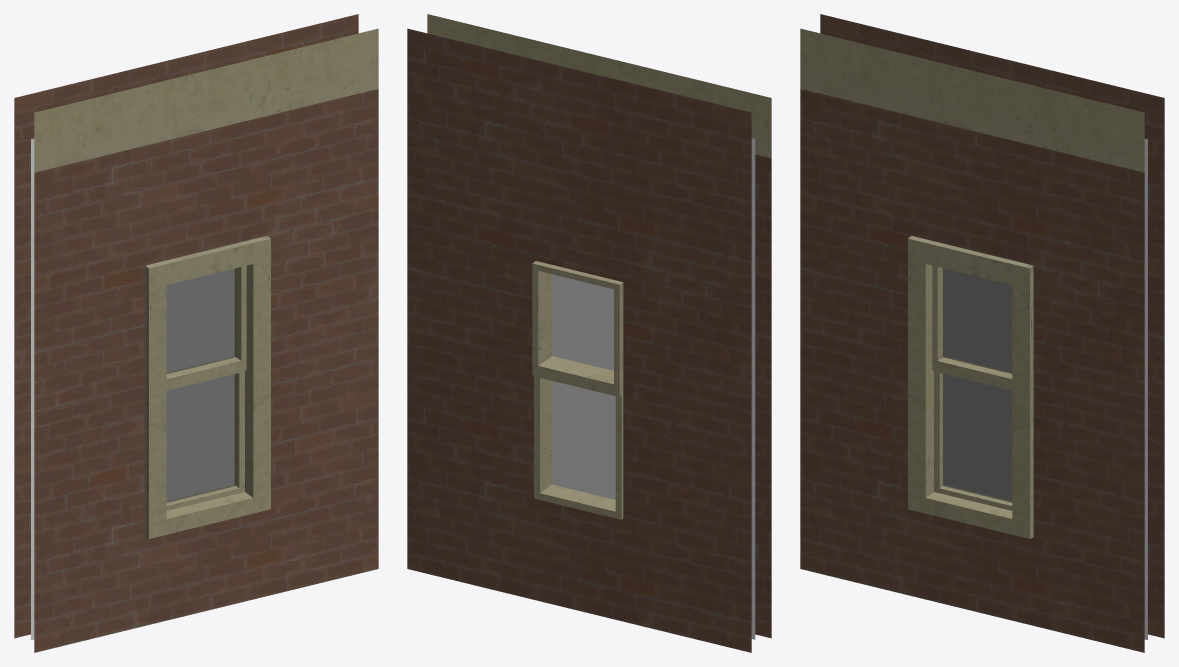
File: Brick_Window_Square_Single.glb
The picture shows the model from 3 angles, left to right: view 1: azimuth 30°, elevation 25°; view 2: azimuth 150°, elevation 25°; view 3: azimuth 330°, elevation 25°; orthographic projection.
Parts seen in each view (by area): view 1: Brick_Window_Square_Single; view 2: Brick_Window_Square_Single; view 3: Brick_Window_Square_Single.
Boxes of the visible parts, left/top/right/bottom form: Brick_Window_Square_Single: left=14, top=14, right=378, bottom=652; Brick_Window_Square_Single: left=407, top=14, right=771, bottom=652; Brick_Window_Square_Single: left=800, top=14, right=1164, bottom=652.
Size of the model in its own units: 2 by 3 by 0.2711.
4 materials, 2 textured.
